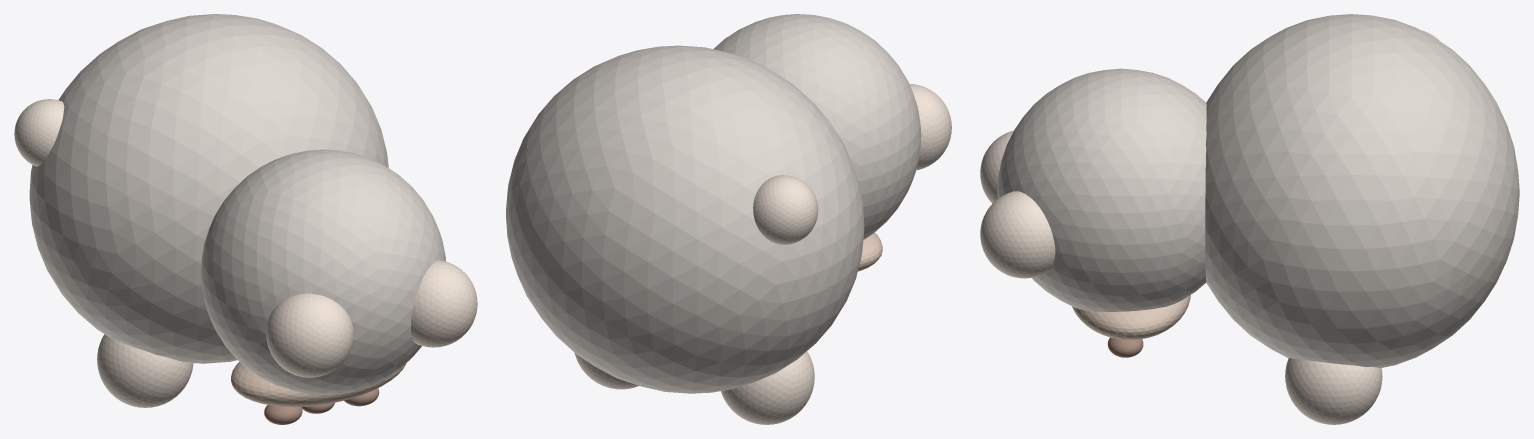
File: mascot.glb
3 renders of one model, left to right at view 1: azimuth 30°, elevation 25°; view 2: azimuth 150°, elevation 25°; view 3: azimuth 270°, elevation 25°, orthographic.
Parts seen in each view (by area): view 1: body, ears, paws, face_patch, tail, eyes_nose; view 2: body, paws, tail, ears, face_patch; view 3: body, ears, paws, face_patch, eyes_nose.
Boxes of the visible parts, bbox=[...] form: body: bbox=[29, 14, 445, 395]; ears: bbox=[266, 260, 477, 377]; paws: bbox=[97, 334, 193, 407]; face_patch: bbox=[231, 362, 406, 406]; tail: bbox=[14, 99, 64, 166]; eyes_nose: bbox=[264, 388, 379, 424]; body: bbox=[506, 14, 921, 393]; paws: bbox=[574, 351, 814, 424]; tail: bbox=[753, 175, 818, 244]; ears: bbox=[909, 84, 951, 170]; face_patch: bbox=[858, 232, 882, 271]; body: bbox=[997, 14, 1519, 367]; ears: bbox=[980, 130, 1055, 278]; paws: bbox=[1285, 358, 1382, 424]; face_patch: bbox=[1072, 295, 1190, 339]; eyes_nose: bbox=[1107, 337, 1143, 357].
Size of the model in its own units: 84 by 87.8 by 122.
